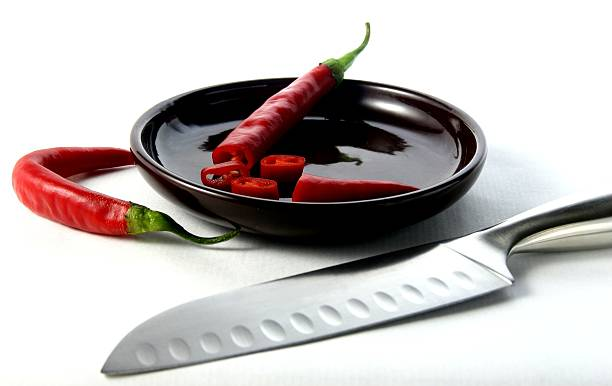knife: (98, 184, 612, 380)
